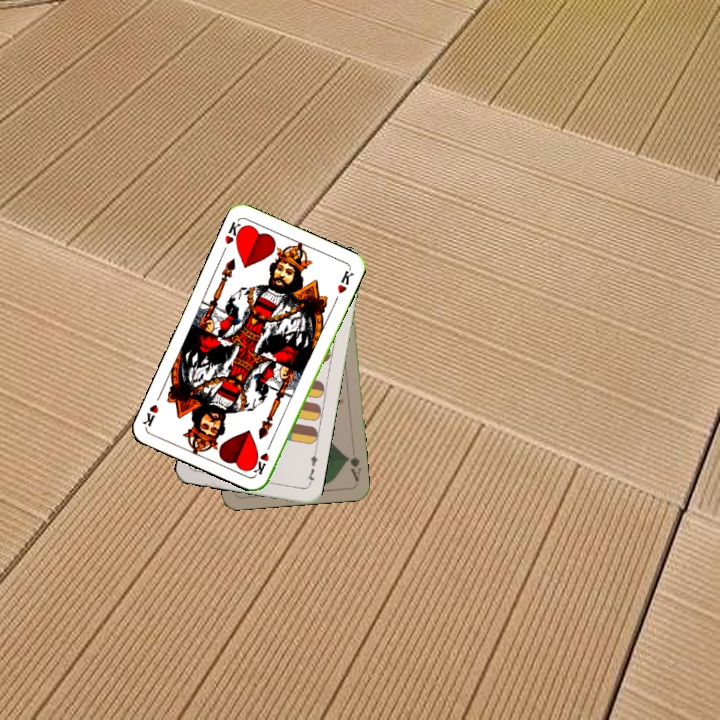E7: (303, 448, 320, 488)
GA: (343, 452, 364, 484)
HK: (249, 438, 274, 477), (221, 217, 247, 247)
